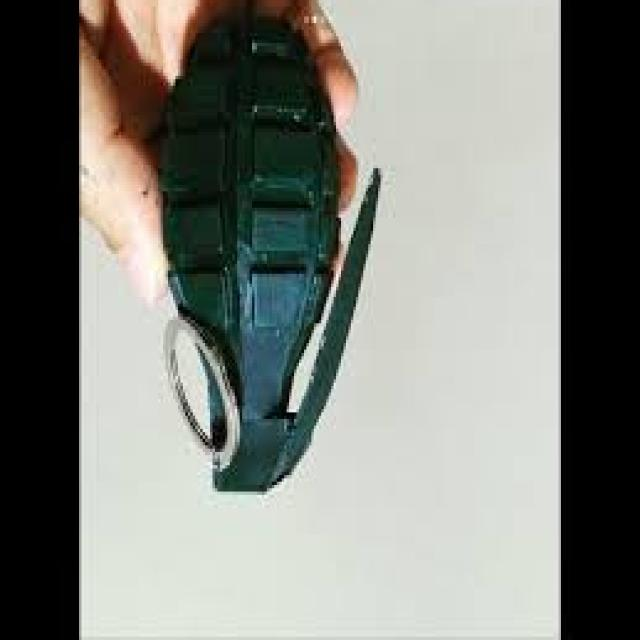grenade: (152, 12, 398, 506)
